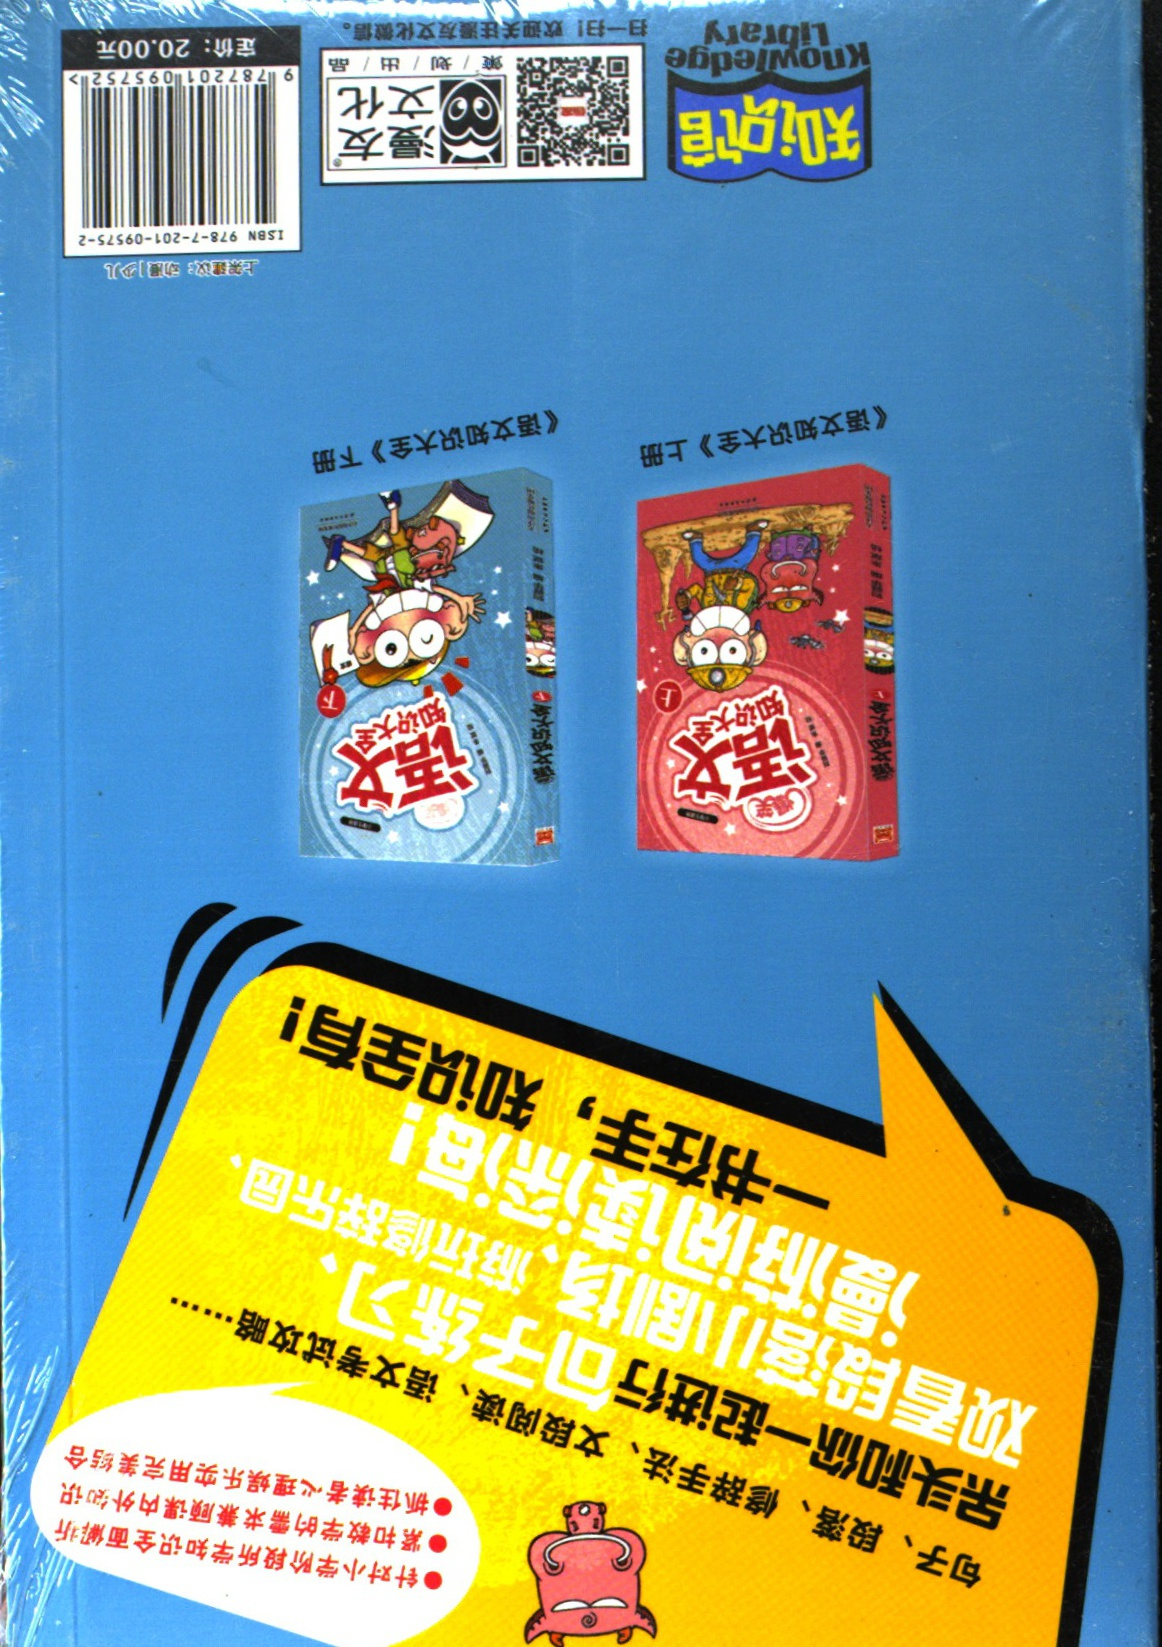barcode: (65, 29, 290, 256)
